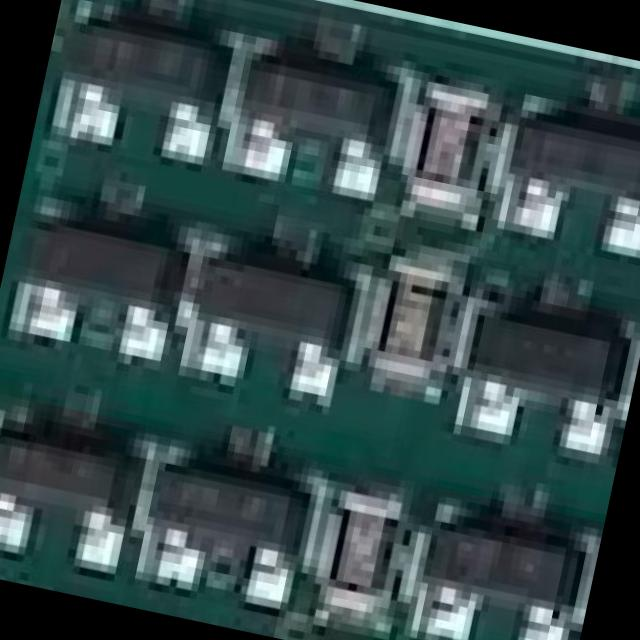resistor: (318, 480, 407, 635), (395, 82, 494, 214), (362, 252, 452, 383)
transistor: (168, 210, 363, 402), (219, 0, 403, 195), (8, 178, 194, 364), (45, 0, 238, 172), (453, 277, 640, 454), (493, 59, 640, 263), (402, 493, 600, 640), (138, 432, 308, 600), (0, 398, 148, 579)
